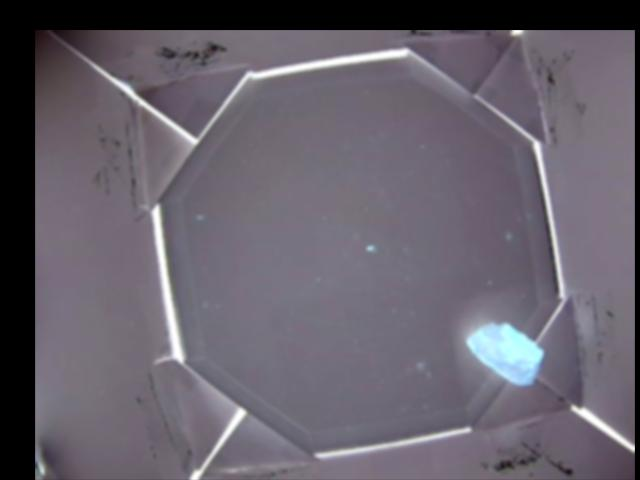Brisk: (466, 321, 543, 387)
